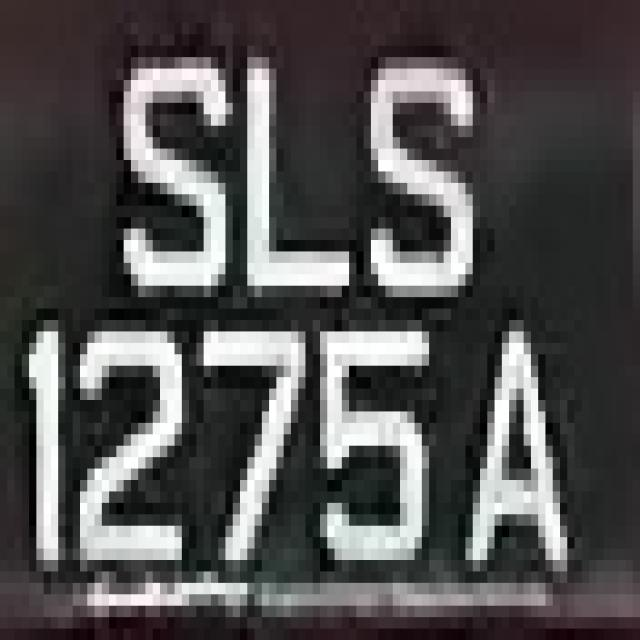1: (14, 286, 72, 594)
2: (65, 297, 204, 583)
5: (306, 308, 436, 583)
7: (182, 263, 305, 560)
A: (422, 343, 589, 594)
L: (218, 23, 342, 320)
S: (342, 12, 487, 308), (95, 23, 232, 320)
